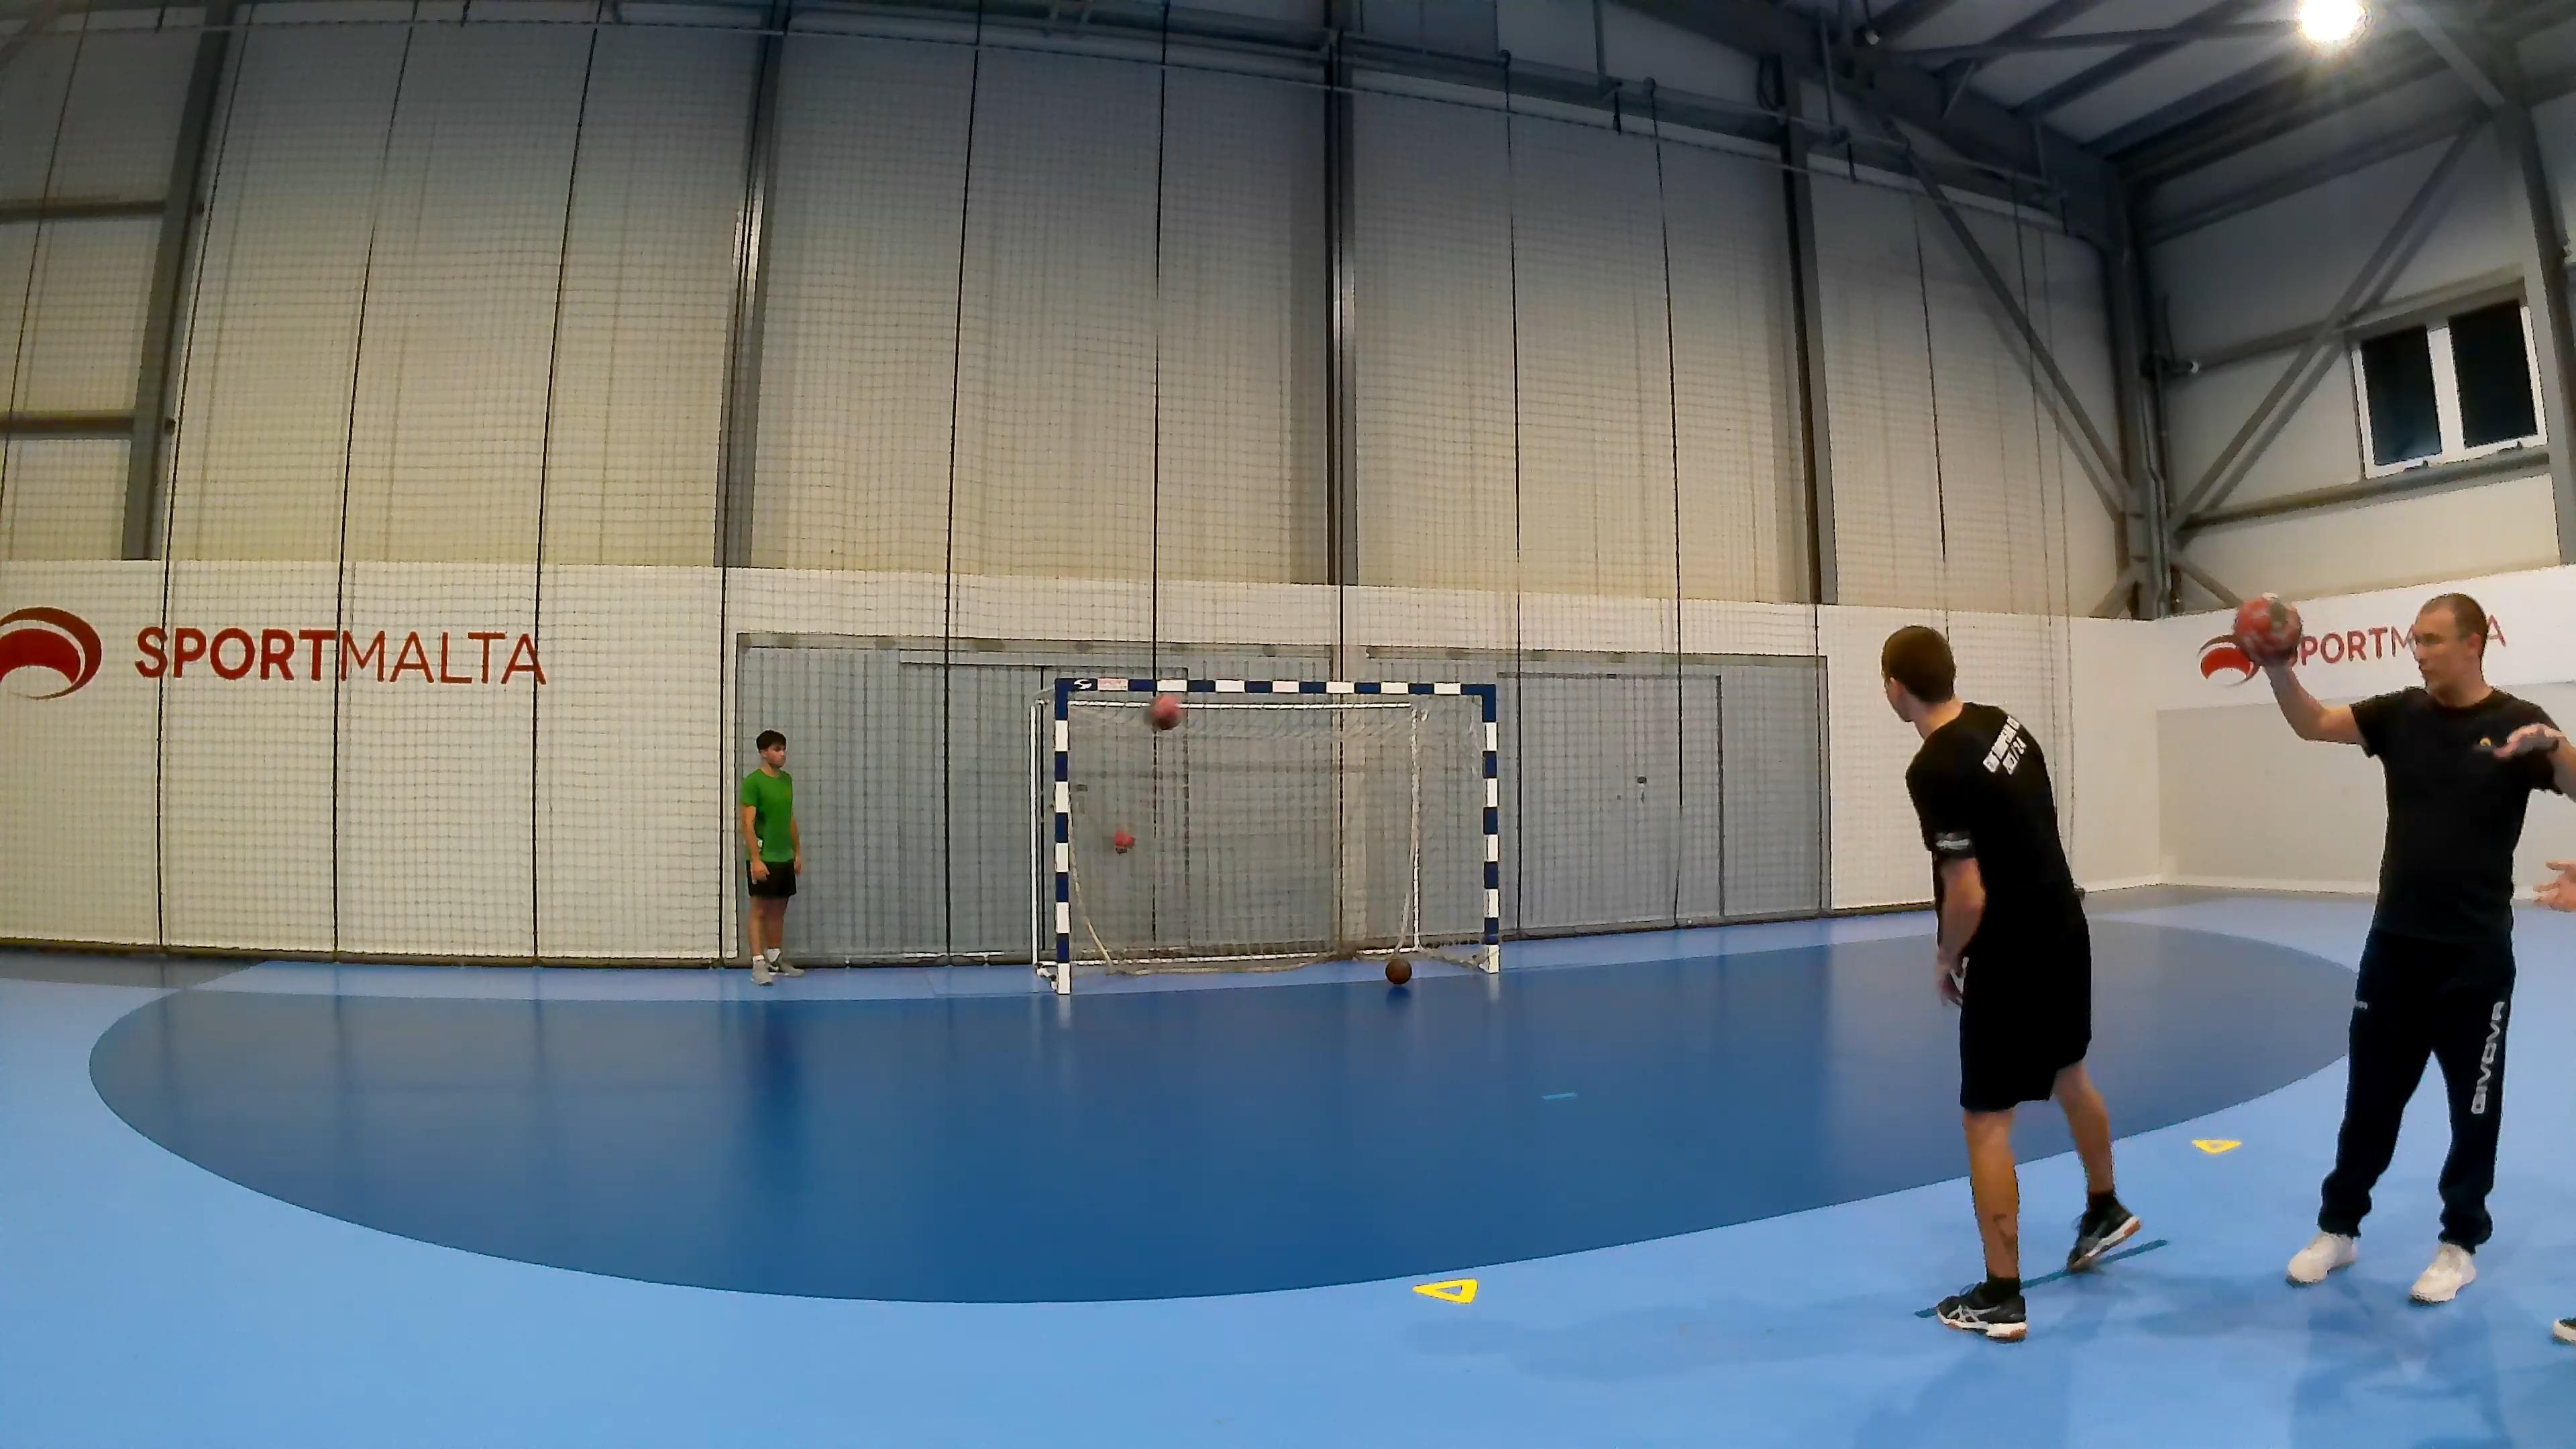handball: (2231, 591, 2302, 660), (1145, 692, 1182, 731), (1384, 955, 1410, 985)
